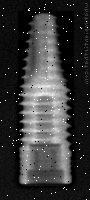Neodent: (18, 11, 74, 185)
